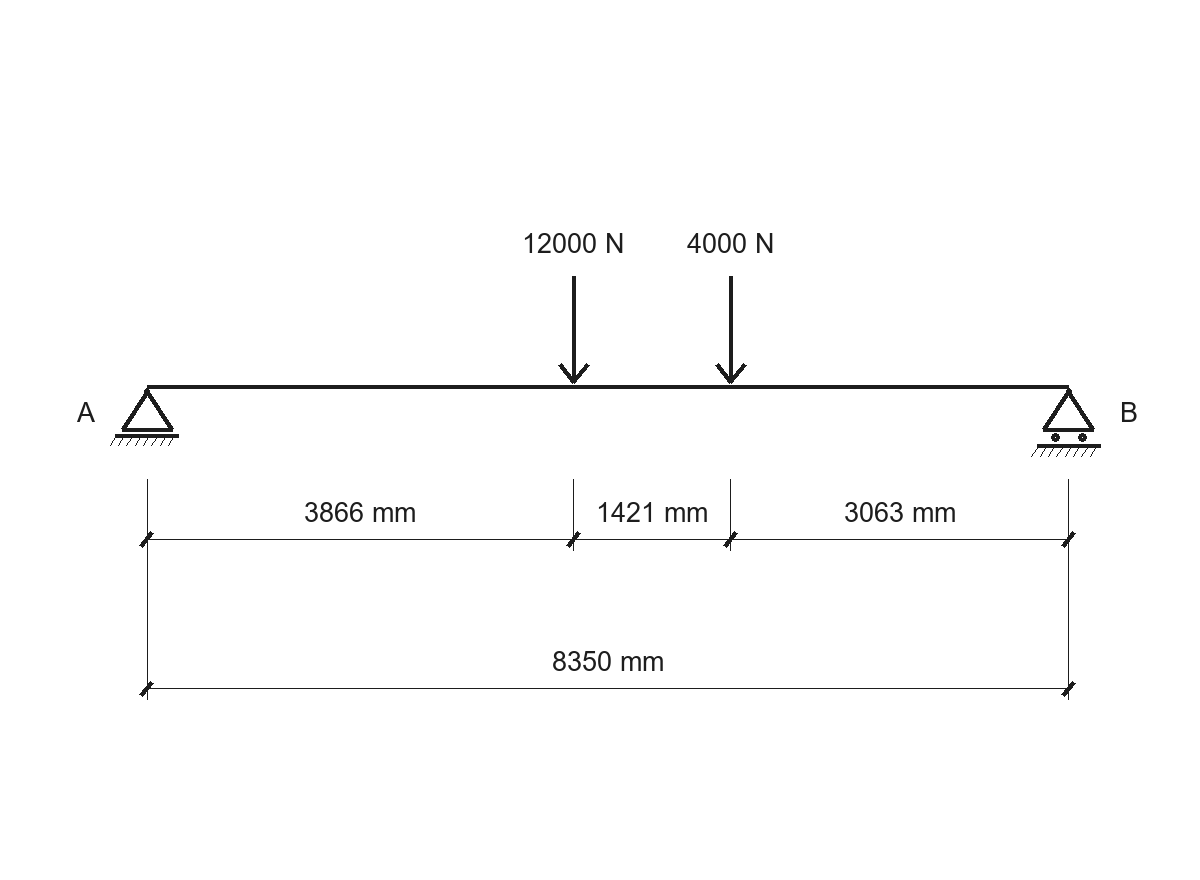pin_support: (110, 388, 179, 446)
point_load: (558, 276, 590, 384), (715, 276, 747, 384)
roller_support: (1031, 388, 1101, 457)
